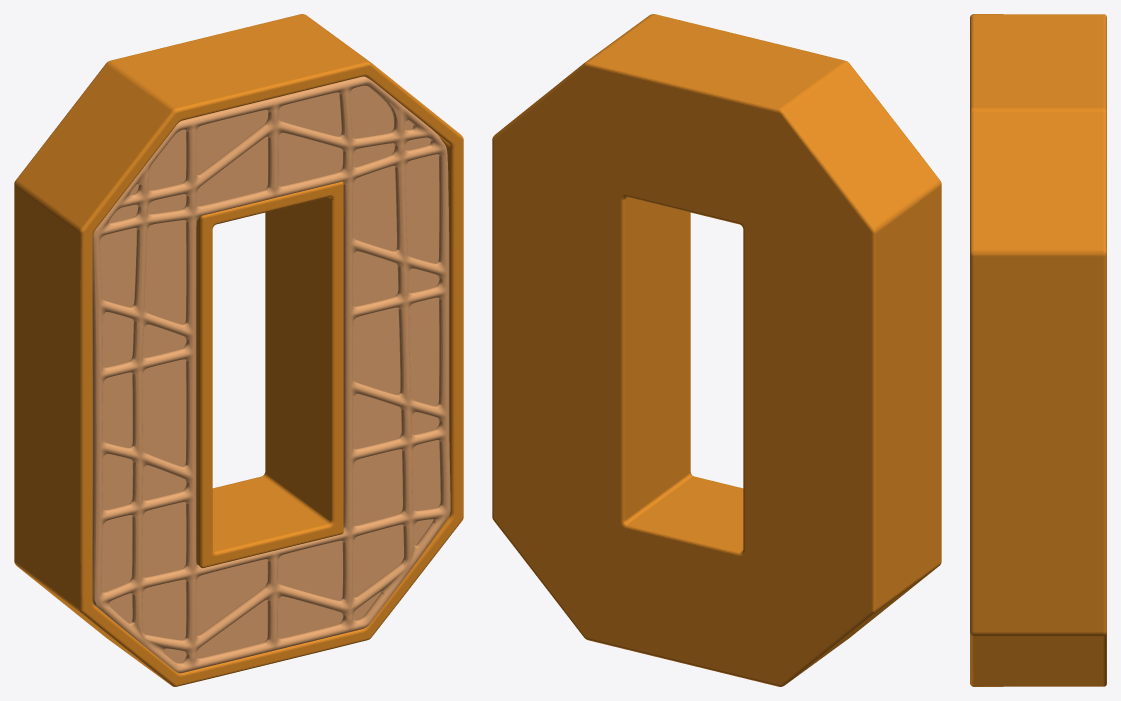
3 renders of one model, left to right at view 1: azimuth 30°, elevation 25°; view 2: azimuth 150°, elevation 25°; view 3: azimuth 270°, elevation 25°, orthographic.
Parts seen in each view (by area): view 1: Text.019, Plane.045, Plane.076; view 2: Text.019; view 3: Text.019.
Part boxes in pixels (left/top/right/bottom): Text.019: left=14, top=14, right=463, bottom=686; Plane.045: left=100, top=85, right=440, bottom=663; Plane.076: left=92, top=76, right=450, bottom=673; Text.019: left=492, top=14, right=941, bottom=686; Text.019: left=970, top=14, right=1106, bottom=686.
Bounding box in the file's own units: 2.19 × 3.16 × 0.6763.
